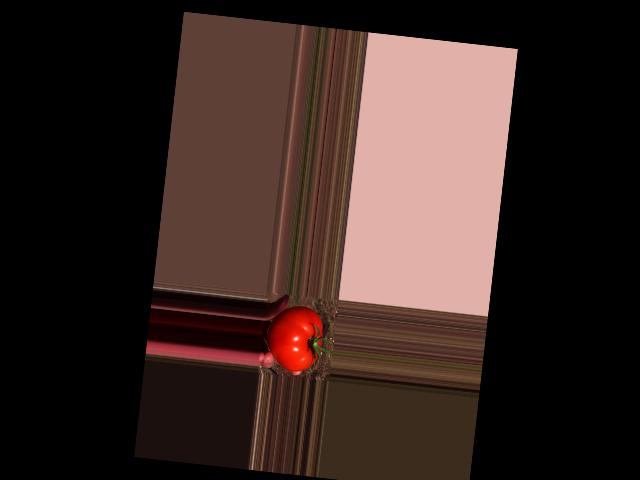tomato: (263, 303, 325, 374)
